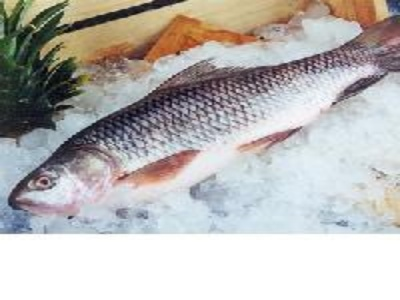rohu: (11, 16, 400, 220)
